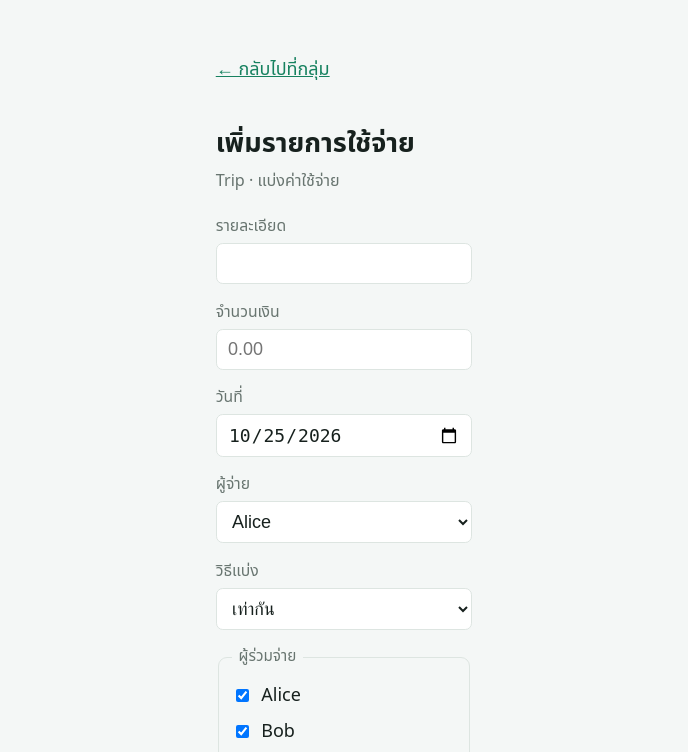
Test: AddExpensePage › previews the EQUAL split and marks who receives the extra cent
The image size is (688, 752).
expect the heading "เพิ่มรายการใช้จ่าย" is shown: met, box 216,124 -> 415,164
In the field labelled "รายละเอียด": [344, 264] box 216,243 -> 472,284, type "Dinner"
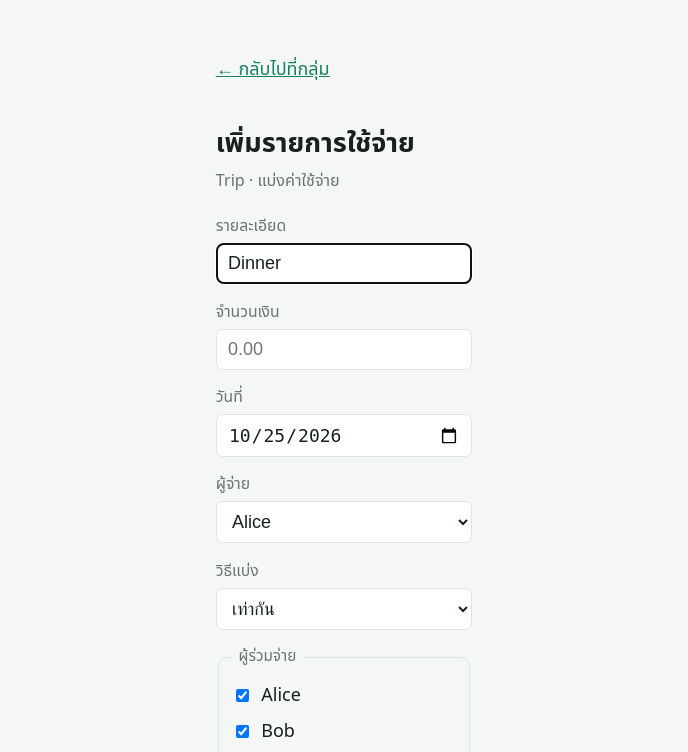
In the field labelled "จำนวนเงิน": [344, 349] box 216,329 -> 472,370, type "100"
(page scrolled)
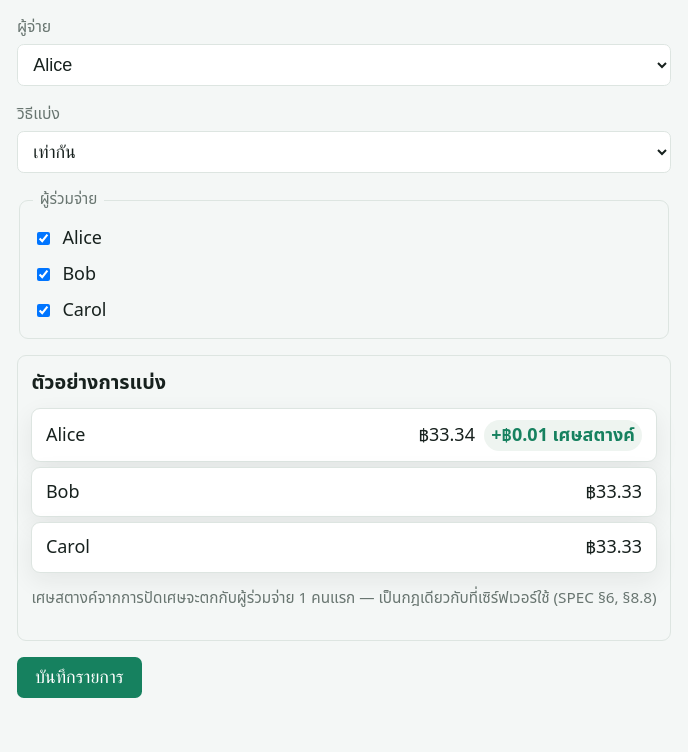
expect the element "ตัวอย่างการแบ่ง" is shown: met, box 17,355 -> 671,641
expect the text "฿33.33" is shown 2 times: met, box 586,479 -> 642,506; 586,534 -> 642,561
expect the button "บันทึกรายการ" is enabled: met, box 17,657 -> 142,698
